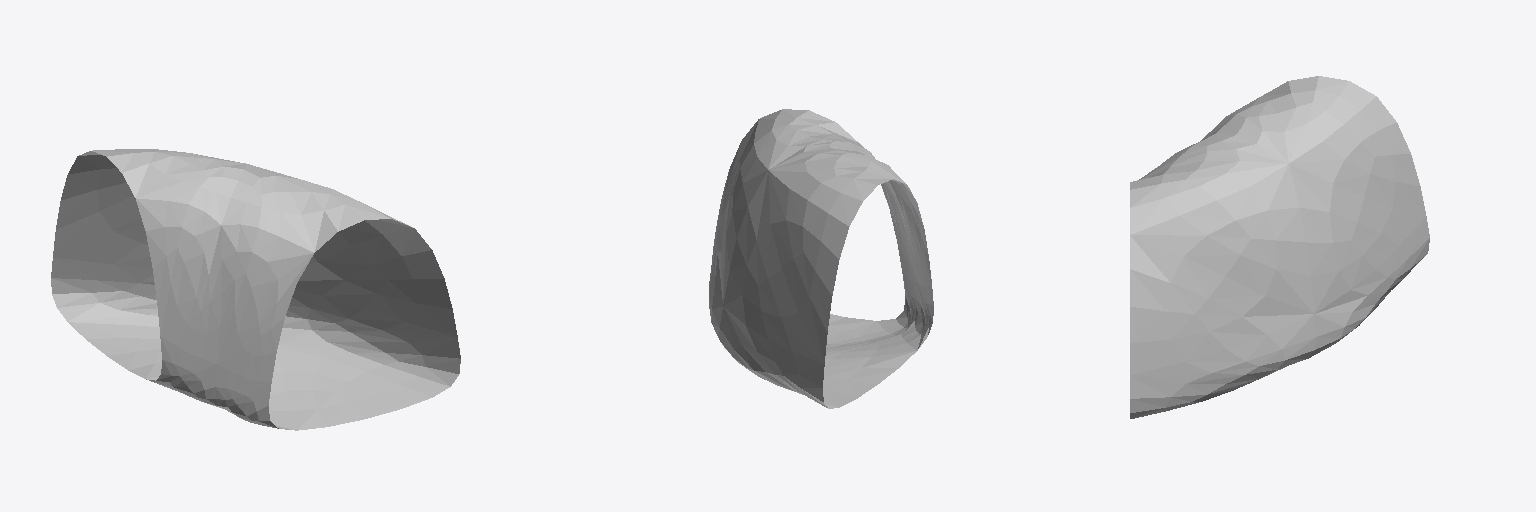
File: cave_901_1.obj
3 views of the same model, side by side, from view 1: azimuth 30°, elevation 25°; view 2: azimuth 150°, elevation 25°; view 3: azimuth 270°, elevation 25° (orthographic).
Visible parts, largest first — view 1: cave_901_1_Cube.073; view 2: cave_901_1_Cube.073; view 3: cave_901_1_Cube.073.
Boxes of the visible parts, x1,y1,x2,y2 form: cave_901_1_Cube.073: [51, 149, 460, 430]; cave_901_1_Cube.073: [709, 109, 933, 408]; cave_901_1_Cube.073: [1130, 76, 1429, 418].
Bounding box in the file's own units: 7.94 × 6.81 × 7.94.